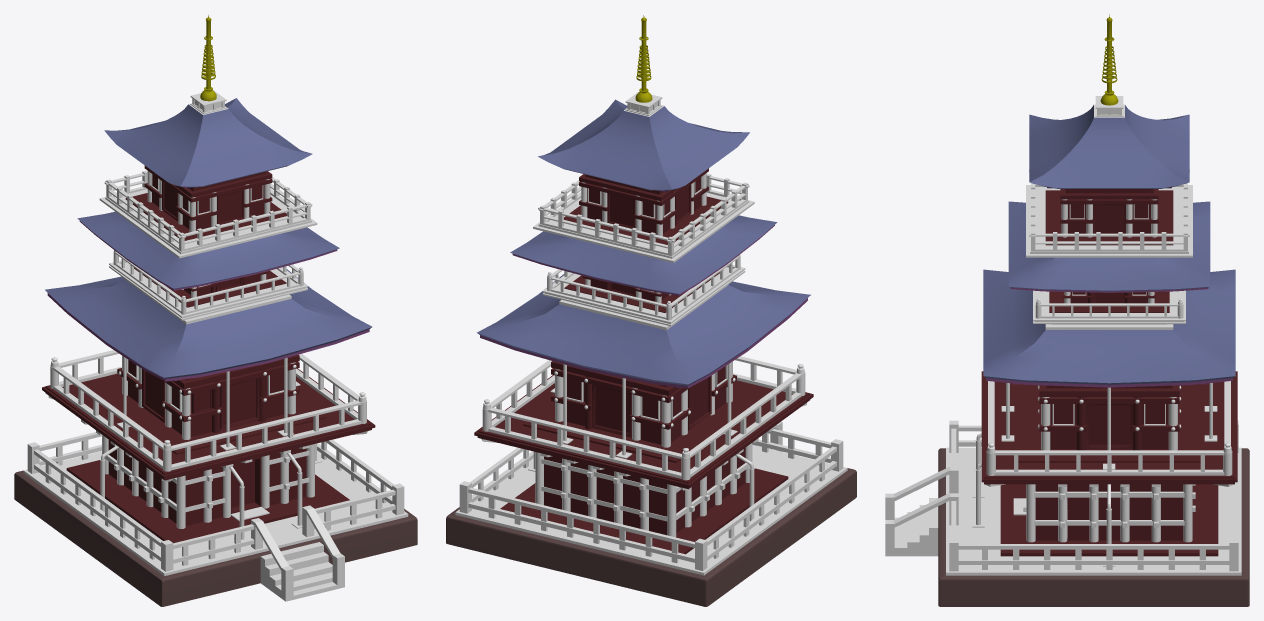
File: AsianTemple2.fbx
The picture shows the model from 3 angles, left to right: view 1: azimuth 30°, elevation 25°; view 2: azimuth 150°, elevation 25°; view 3: azimuth 270°, elevation 25°; orthographic projection. The views are drawn at different scales.
Parts seen in each view (by area): view 1: Japanese_Shrine; view 2: Japanese_Shrine; view 3: Japanese_Shrine.
Boxes of the visible parts, x1,y1,x2,y2 form: Japanese_Shrine: (14, 15, 417, 606); Japanese_Shrine: (446, 15, 856, 606); Japanese_Shrine: (885, 14, 1249, 606).
Size of the model in its own units: 2000 by 3738 by 2340.
